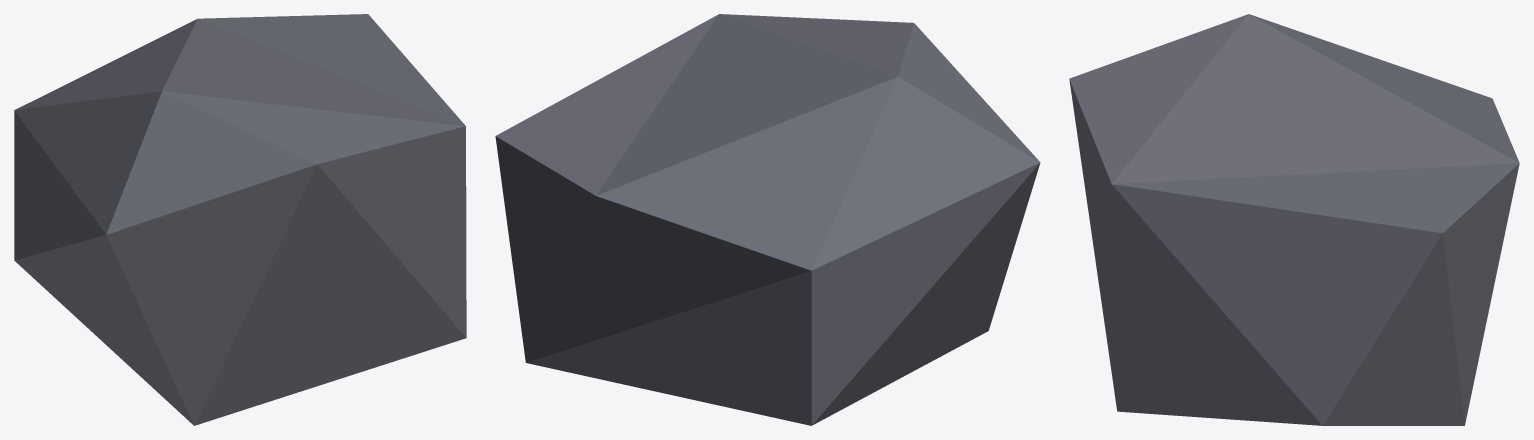
The model's file is rock_08.FBX.
The picture shows the model from 3 angles, left to right: view 1: azimuth 30°, elevation 25°; view 2: azimuth 150°, elevation 25°; view 3: azimuth 270°, elevation 25°; orthographic projection. The views are drawn at different scales.
Parts seen in each view (by area): view 1: rock_08; view 2: rock_08; view 3: rock_08.
Boxes of the visible parts, x1,y1,x2,y2 form: rock_08: (14, 14, 466, 425); rock_08: (495, 14, 1040, 425); rock_08: (1069, 14, 1519, 425).
Bounding box in the file's own units: 1.94 × 1.27 × 1.73.
